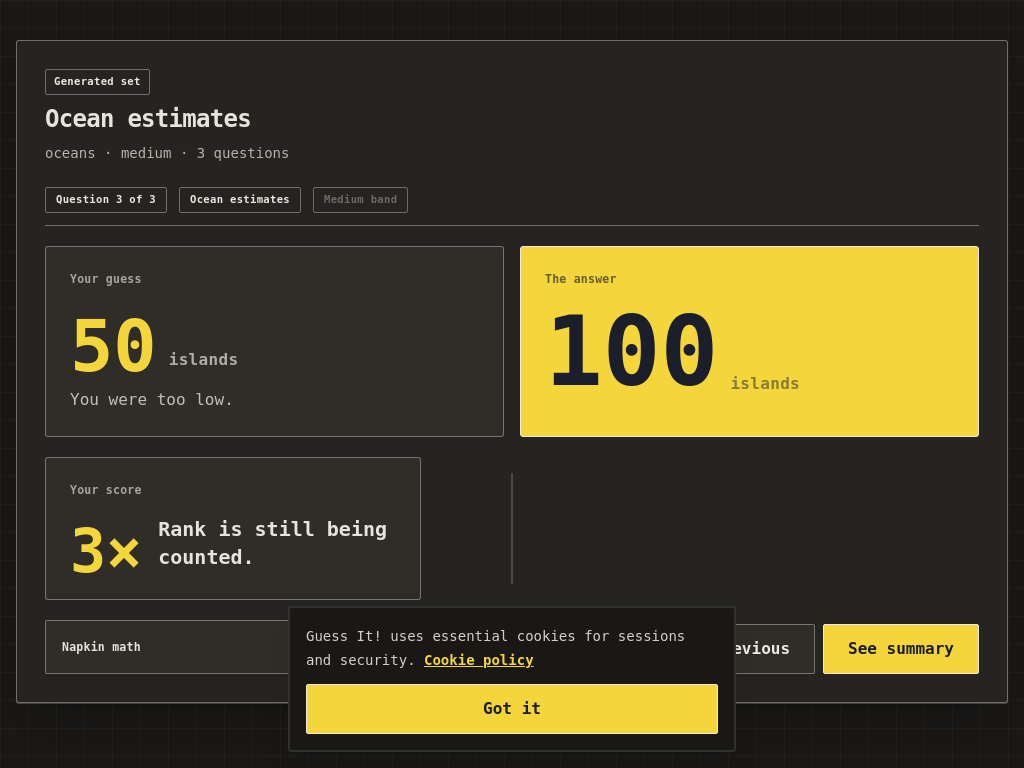
Test: source-aware solo routes › rehydrates generated reveals and ends the third round at its summary
Click the link "See summary".
click(901, 649)  # box [823, 624, 979, 674]
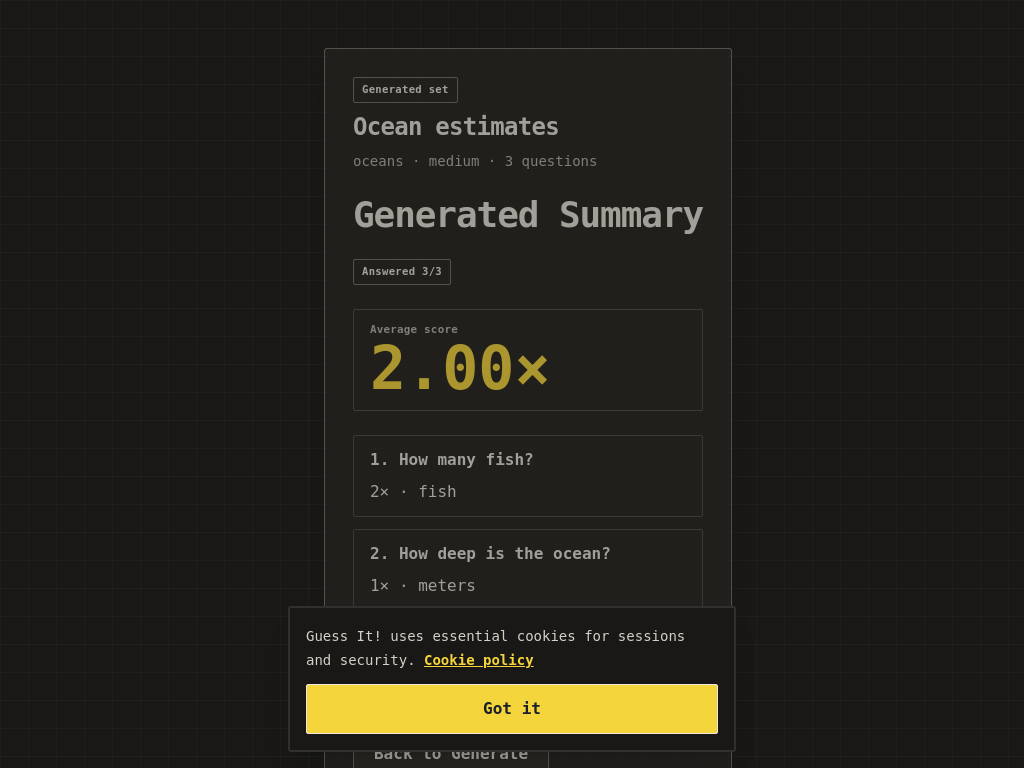
Check: the heading "Generated Summary" is shown, box [340, 195, 690, 235]
Check: the text "Answered 3/3" is shown, box [340, 259, 438, 285]
